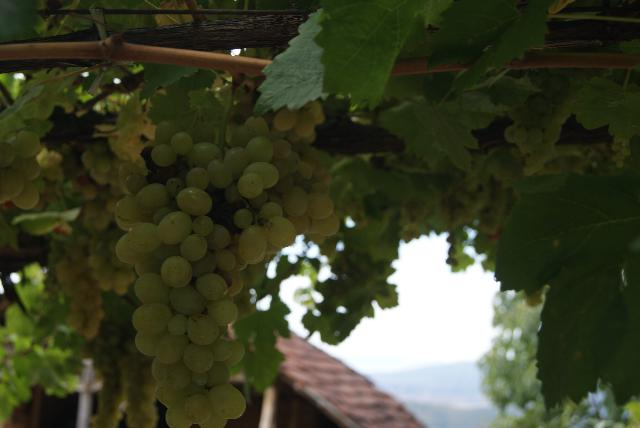grapes: (114, 116, 339, 428)
